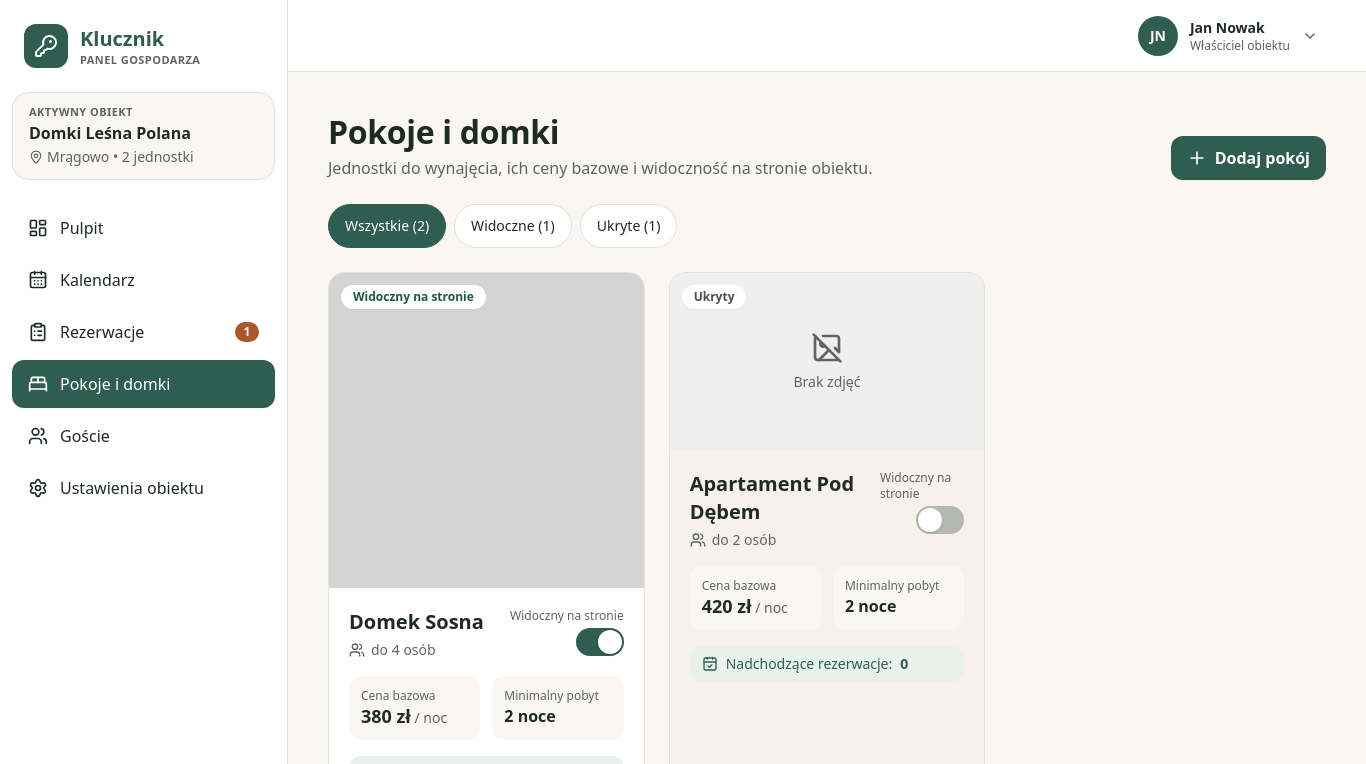
RoomsPage (O6) › renders room cards with price, capacity and visibility; filter by visibility
The image size is (1366, 764).
Check: the switch named "Widoczny na stronie" next to "Domek Sosna" is checked, box [576,628,624,656]
Check: the heading "Apartament Pod Dębem" is shown, box [690,470,868,526]
Step 1. Click the button "Ukryte (1)" → click(628, 226), box [580,204,677,248]
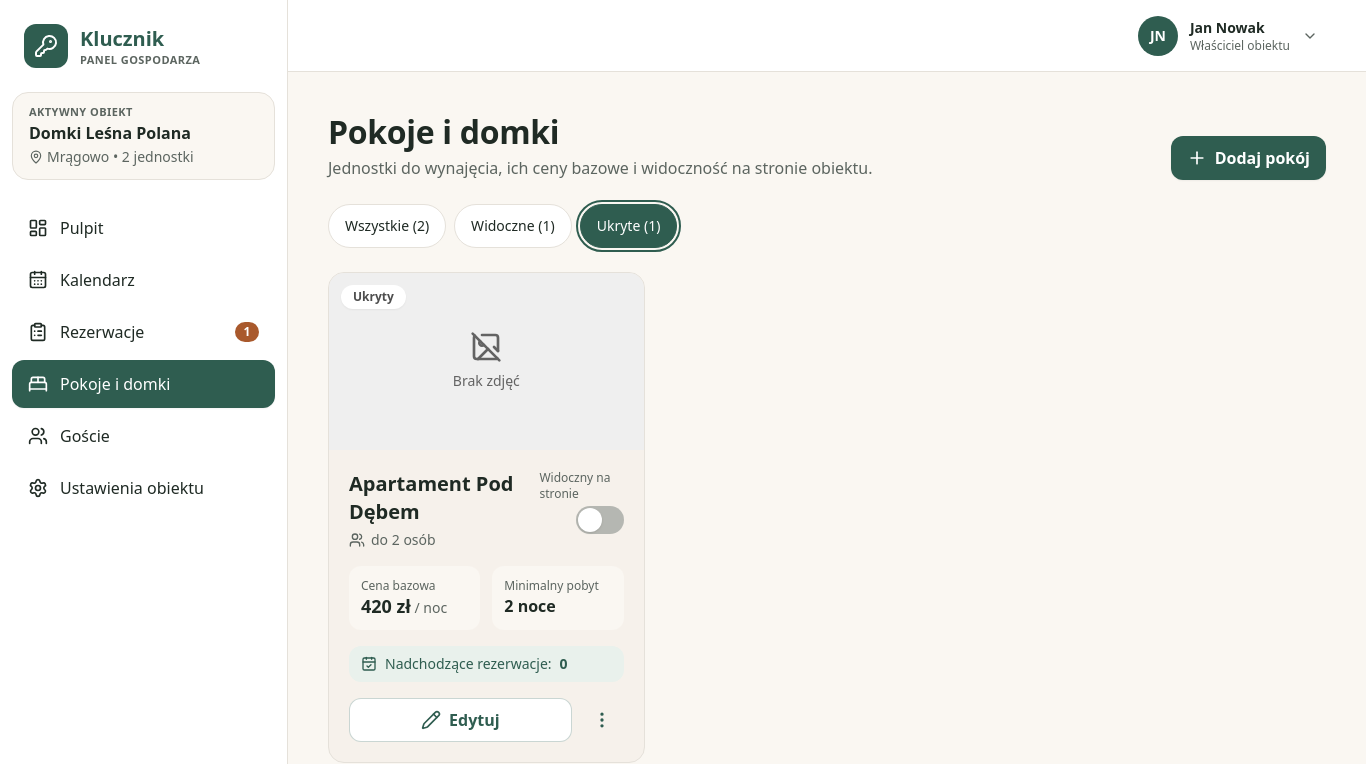
Check: the heading "Apartament Pod Dębem" is shown, box [349,470,527,526]
Check: the heading "Domek Sosna" is gone
